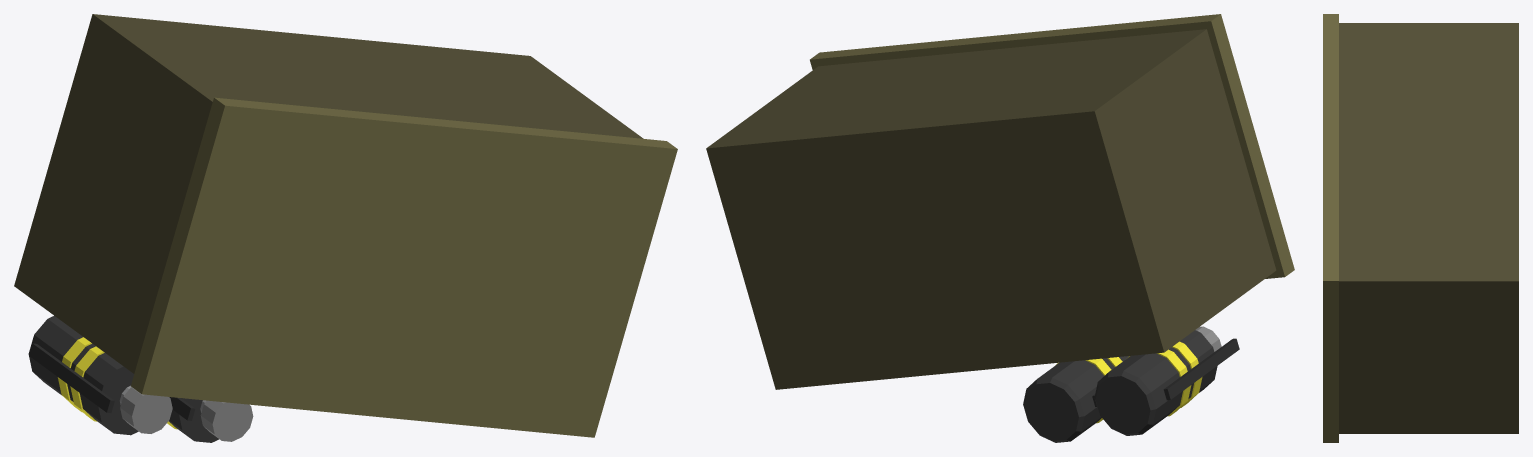
The model's file is ce_handgren_concussion_c.obj.
3 renders of one model, left to right at view 1: azimuth 30°, elevation 25°; view 2: azimuth 150°, elevation 25°; view 3: azimuth 270°, elevation 25°, orthographic. The views are drawn at different scales.
Parts seen in each view (by area): view 1: ce_handgren_concussion_c_lid, ce_handgren_concussion_c_crate, ce_handgren_concussion_c_g0_body, ce_handgren_concussion_c_g0_head, ce_handgren_concussion_c_g1_head, ce_handgren_concussion_c_g0_spoon, ce_handgren_concussion_c_g1_body; view 2: ce_handgren_concussion_c_crate, ce_handgren_concussion_c_lid, ce_handgren_concussion_c_g0_body, ce_handgren_concussion_c_g1_body, ce_handgren_concussion_c_g0_spoon; view 3: ce_handgren_concussion_c_crate, ce_handgren_concussion_c_lid.
Part boxes in pixels (x1,y1,x2,y2): ce_handgren_concussion_c_lid: (131, 97, 677, 437); ce_handgren_concussion_c_crate: (14, 14, 643, 373); ce_handgren_concussion_c_g0_body: (28, 315, 138, 435); ce_handgren_concussion_c_g0_head: (120, 387, 172, 433); ce_handgren_concussion_c_g1_head: (200, 400, 253, 441); ce_handgren_concussion_c_g0_spoon: (29, 343, 114, 412); ce_handgren_concussion_c_g1_body: (169, 398, 218, 442); ce_handgren_concussion_c_crate: (706, 29, 1276, 389); ce_handgren_concussion_c_lid: (810, 14, 1294, 278); ce_handgren_concussion_c_g0_body: (1094, 330, 1217, 435); ce_handgren_concussion_c_g1_body: (1023, 356, 1128, 442); ce_handgren_concussion_c_g0_spoon: (1163, 338, 1239, 400); ce_handgren_concussion_c_crate: (1339, 23, 1518, 433); ce_handgren_concussion_c_lid: (1323, 14, 1338, 442).
Size of the model in its own units: 0.5568 by 0.4191 by 0.2474.
